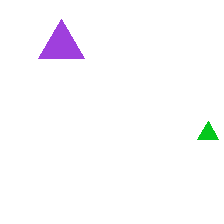triangle: (38, 19, 84, 58), (197, 121, 218, 139)
